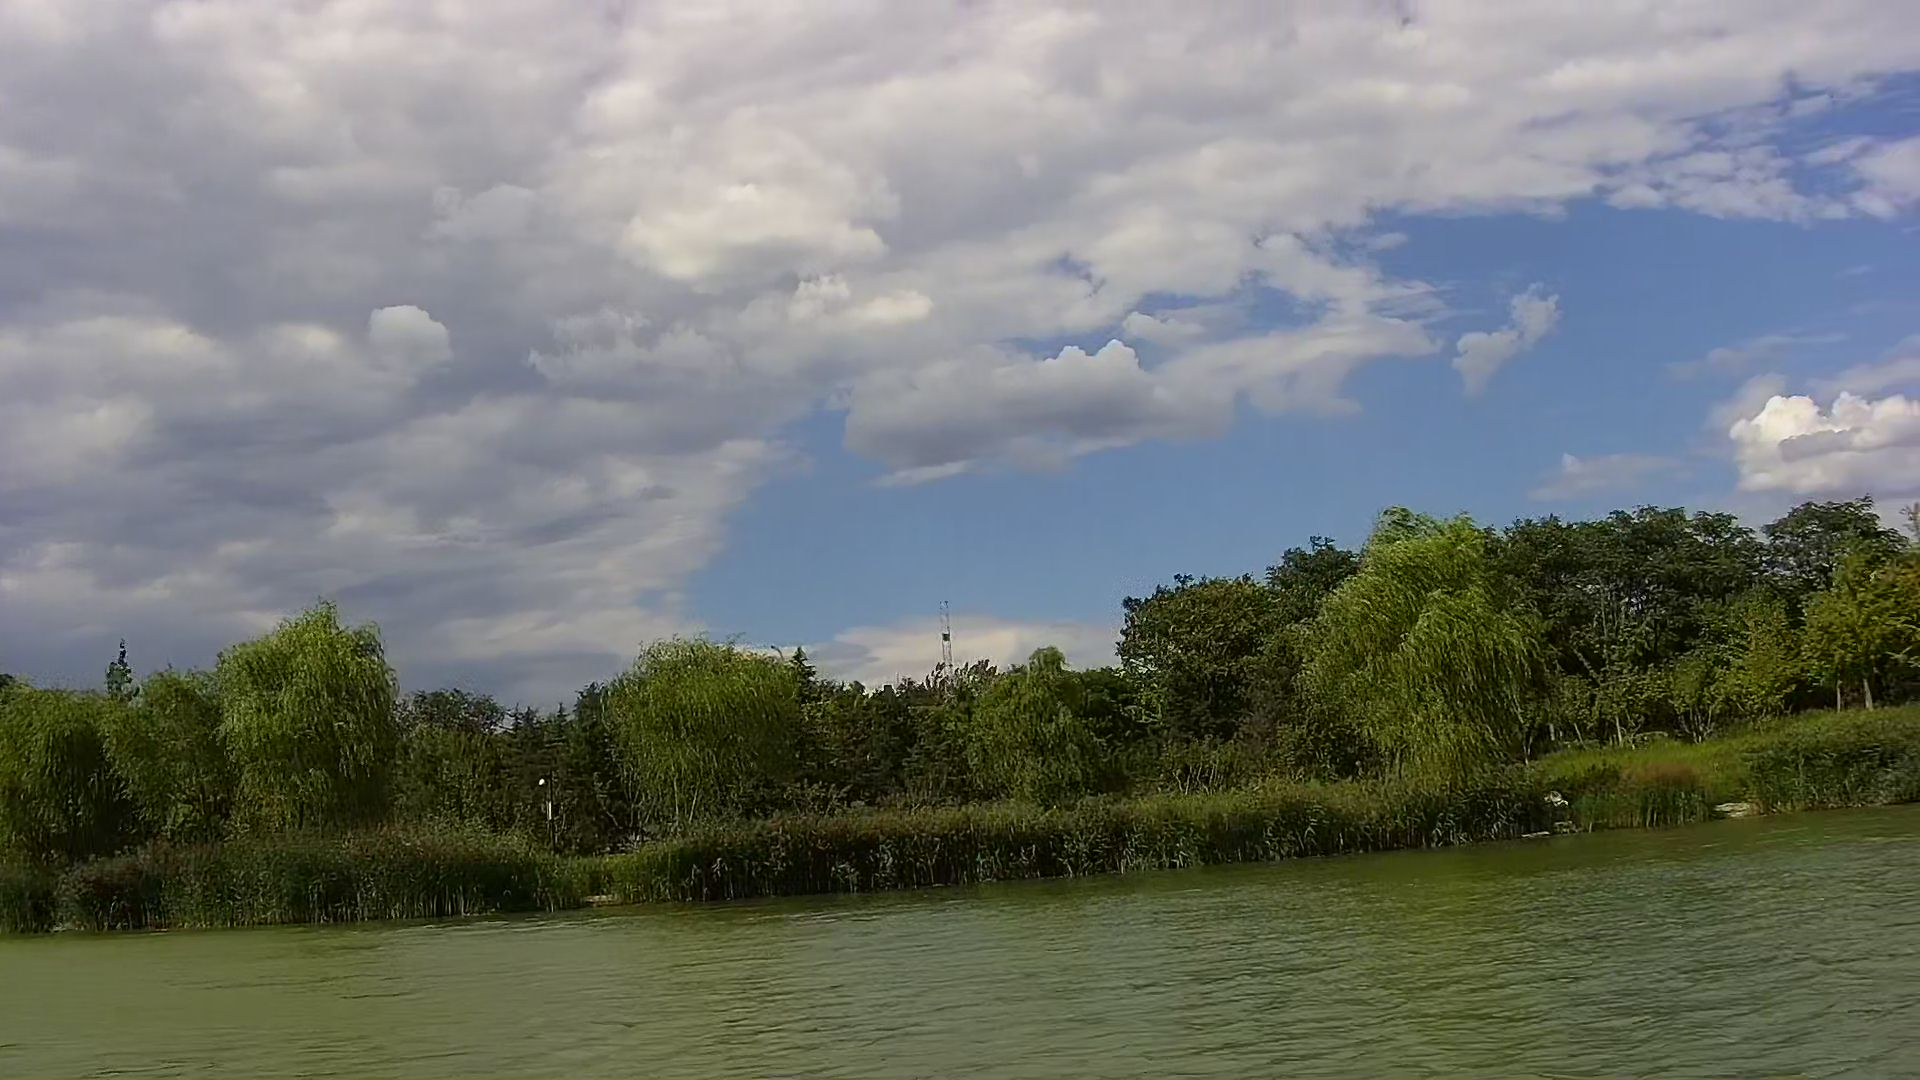rock: (1716, 798, 1760, 822)
